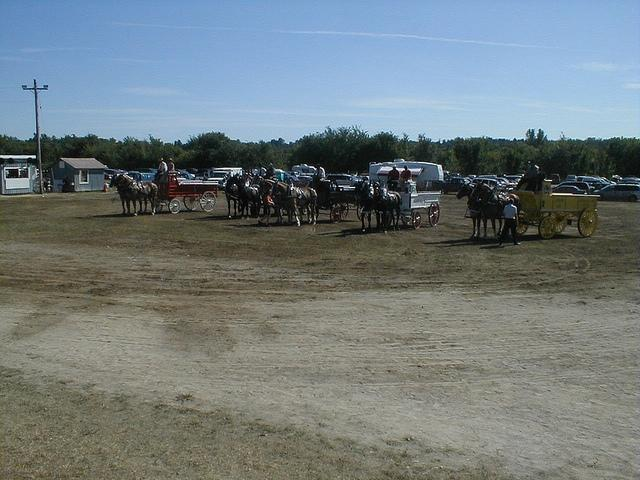car: (595, 184, 640, 201), (471, 178, 514, 192), (554, 181, 596, 195), (323, 174, 363, 186), (550, 185, 588, 194), (584, 180, 614, 191), (617, 176, 640, 184), (491, 178, 510, 187), (575, 176, 599, 182), (550, 174, 560, 184)
